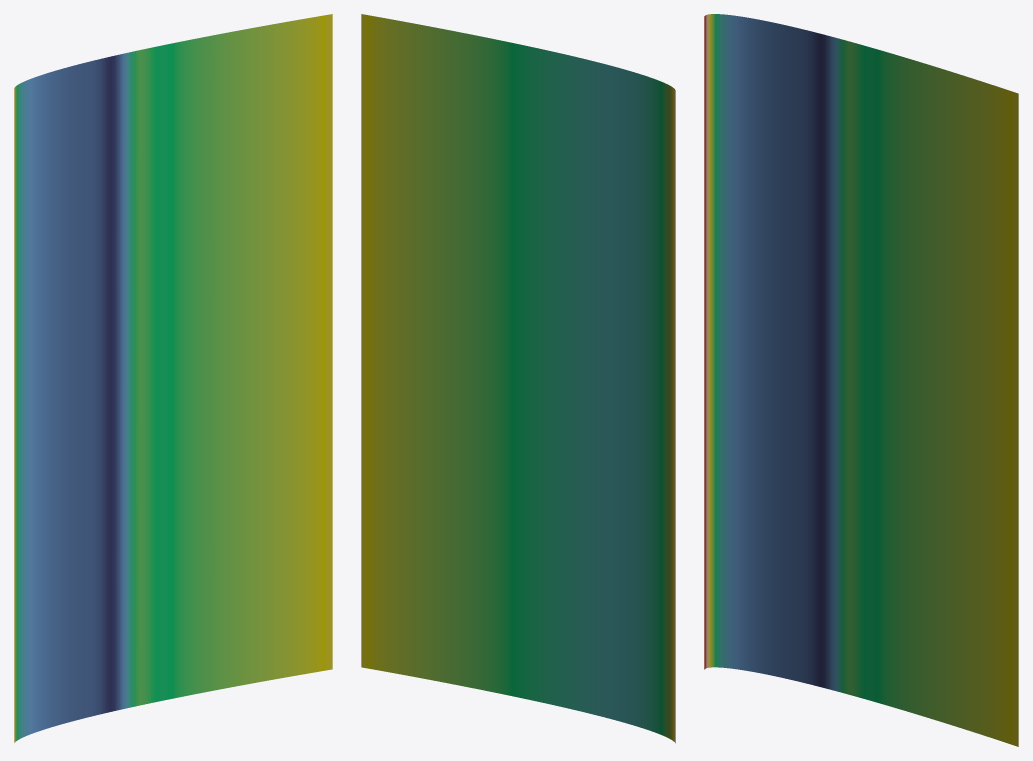
File: morphing_wing_17.glb
3 renders of one model, left to right at view 1: azimuth 30°, elevation 25°; view 2: azimuth 150°, elevation 25°; view 3: azimuth 330°, elevation 25°, orthographic.
Parts seen in each view (by area): view 1: part_0_0; view 2: part_0_0; view 3: part_0_0.
Boxes of the visible parts, x1,y1,x2,y2 form: part_0_0: (14,14,332,742); part_0_0: (361,14,675,743); part_0_0: (704,14,1018,746).
Bounding box in the file's own units: 1.01 × 2 × 0.1202.
